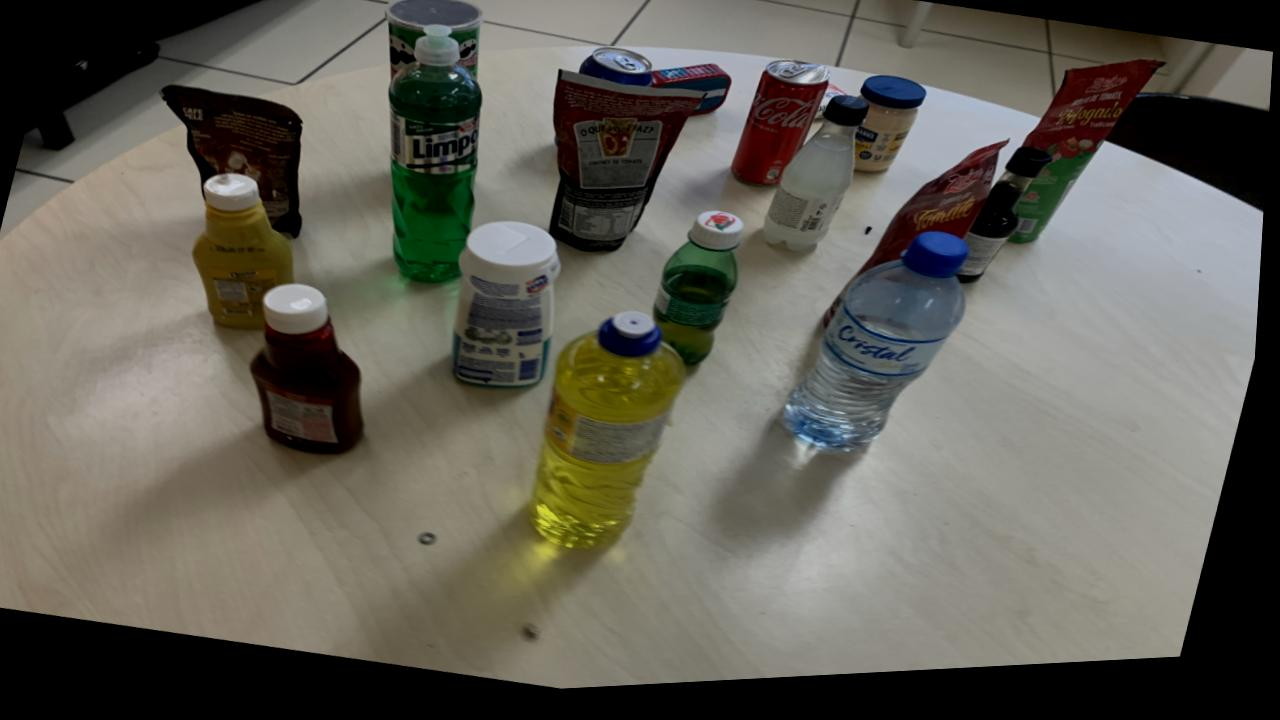Cleaner-Cleanup_Items: (456, 226, 564, 393)
Coffee-Pantry_Items: (163, 87, 304, 241)
Coke-Drinks: (733, 67, 831, 194)
Detergent-Cleanup_Items: (536, 317, 690, 554), (389, 29, 484, 287)
English_Sauce-Pantry_Items: (962, 158, 1054, 294)
Guarana-Drinks: (656, 218, 746, 373)
Ketchup-Pantry_Items: (254, 287, 369, 457)
Mayonnaise-Pantry_Items: (856, 84, 928, 182)
Mustard-Pantry_Items: (195, 175, 296, 332)
Pringles-Snacks: (385, 0, 484, 82)
Soda-Drinks: (766, 104, 870, 260)
Tomato_Sauce-Pantry_Items: (551, 76, 707, 258), (1012, 71, 1164, 255), (860, 152, 1009, 284)
Tonic-Drinks: (579, 52, 653, 94)
Tuna_Can-Pantry_Items: (651, 71, 732, 123)
Water_Bottle-Drinks: (788, 241, 972, 460)
